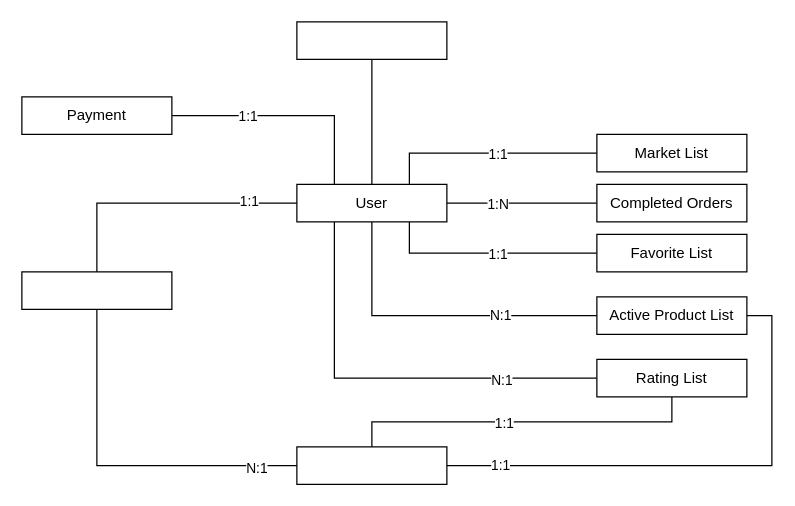
The diagram is 795 pixels wide and 506 high, and some of its shapes have lost their labels. The shapes that lost their labels are listed below. From the top down, each one's box as (x1, y1, x2, y2) in pixels, then its label:
(296, 21, 447, 59): Premium User
(21, 271, 172, 309): Order
(296, 446, 447, 484): Business
